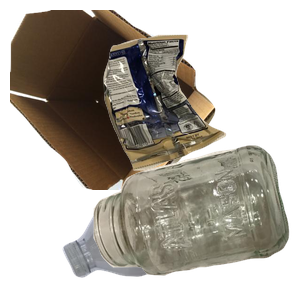cardboard: (10, 10, 218, 190)
glass: (91, 143, 300, 300)
plastic: (60, 190, 300, 280)
trash: (101, 32, 300, 195)
